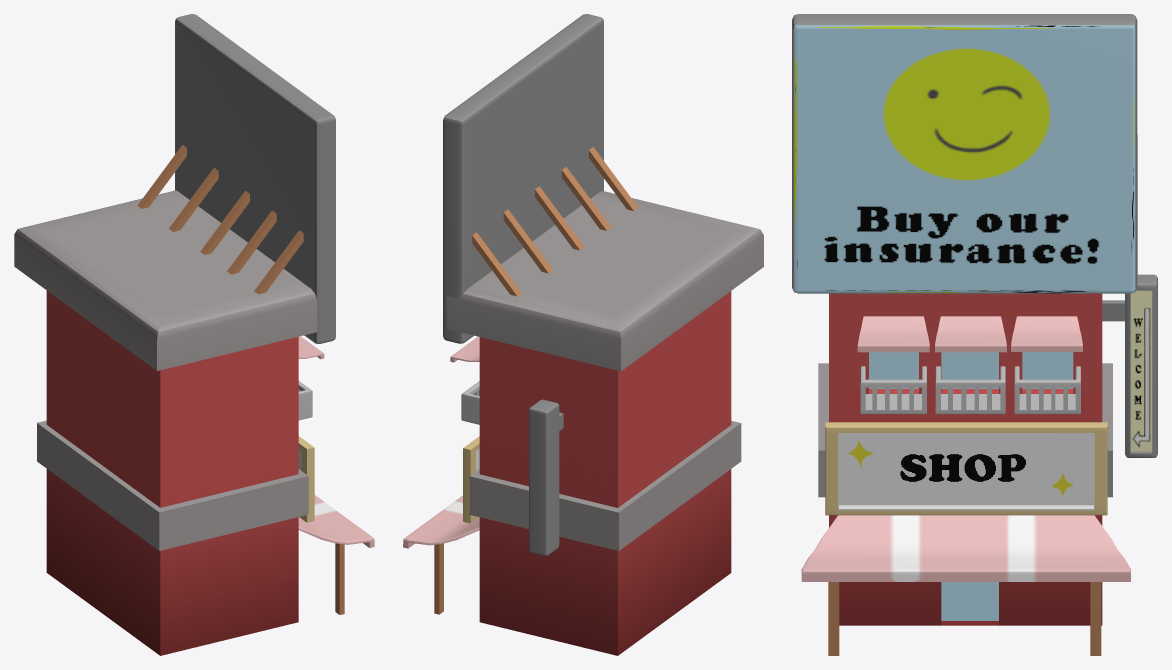
Rendered from BuildingShort_05.fbx.
The picture shows the model from 3 angles, left to right: view 1: azimuth 30°, elevation 25°; view 2: azimuth 150°, elevation 25°; view 3: azimuth 270°, elevation 25°; orthographic projection. The views are drawn at different scales.
Parts seen in each view (by area): view 1: polySurface826; view 2: polySurface826; view 3: polySurface826.
Part boxes in pixels (box(x1,y1,x2,y2)): polySurface826: box(14, 14, 374, 655); polySurface826: box(403, 14, 763, 655); polySurface826: box(792, 14, 1157, 655).
Size of the model in its own units: 4.81 by 10.69 by 5.73.
